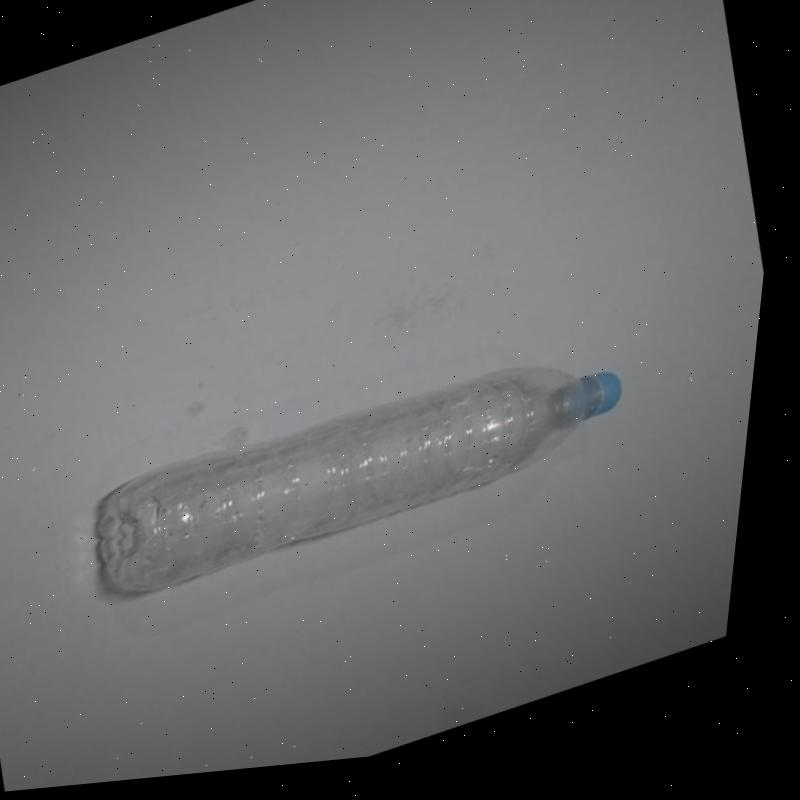botella: (91, 325, 648, 616)
